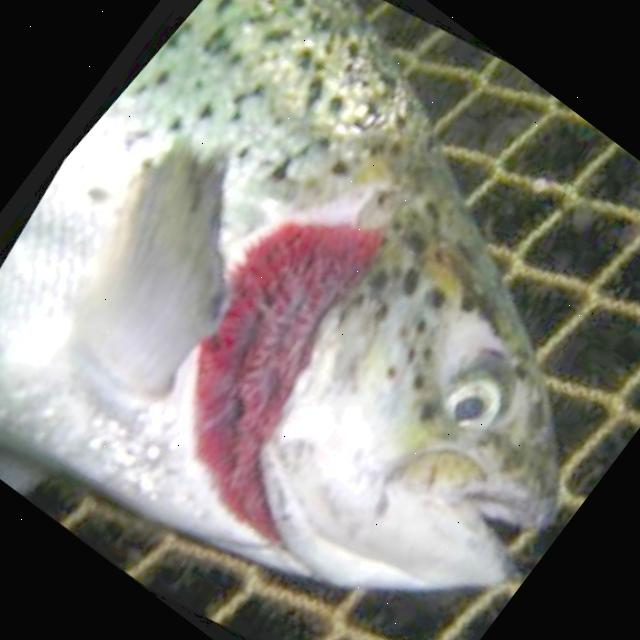Flavobacterium -Bacterial Gill Disease-: (0, 0, 562, 590), (0, 0, 560, 589), (0, 0, 559, 589)
